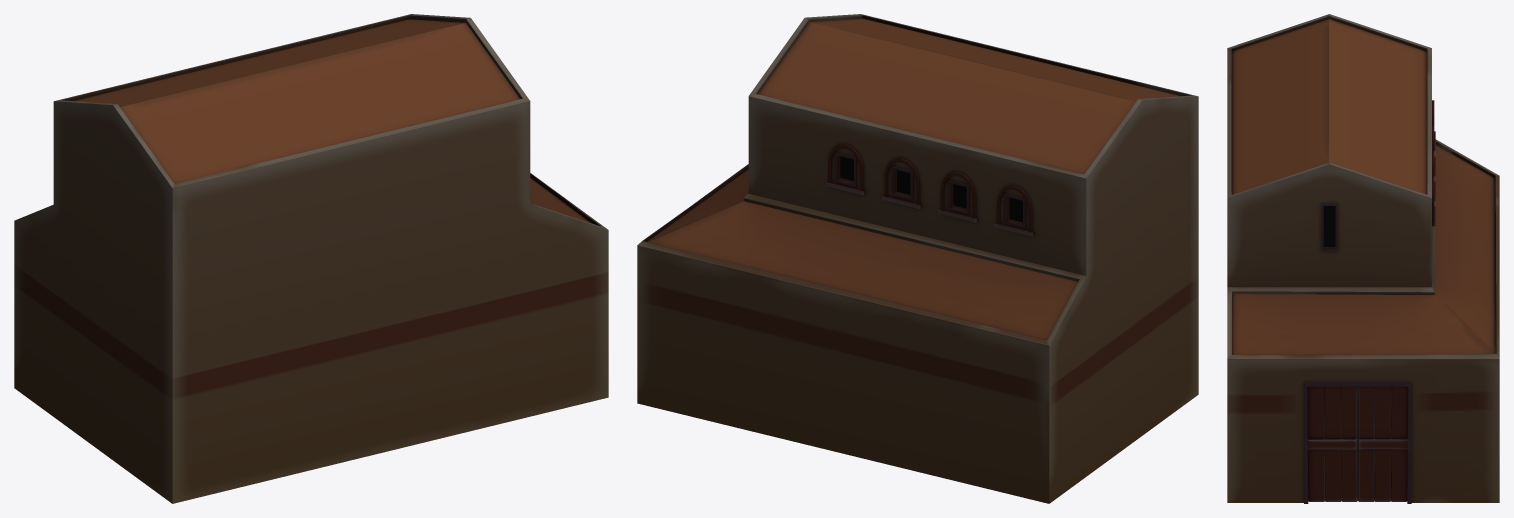
File: byztev3.fbx
3 views of the same model, side by side, from view 1: azimuth 30°, elevation 25°; view 2: azimuth 150°, elevation 25°; view 3: azimuth 270°, elevation 25° (orthographic). The views are drawn at different scales.
Visible parts, largest first — view 1: Cube.001; view 2: Cube.001; view 3: Cube.001, Cube.002.
Boxes of the visible parts, bbox=[...] form: Cube.001: bbox=[14, 14, 608, 503]; Cube.001: bbox=[637, 14, 1198, 503]; Cube.001: bbox=[1227, 14, 1499, 503]; Cube.002: bbox=[1307, 386, 1408, 501].
Bounding box in the file's own units: 548 × 424 × 343.
1 material, 1 textured.
